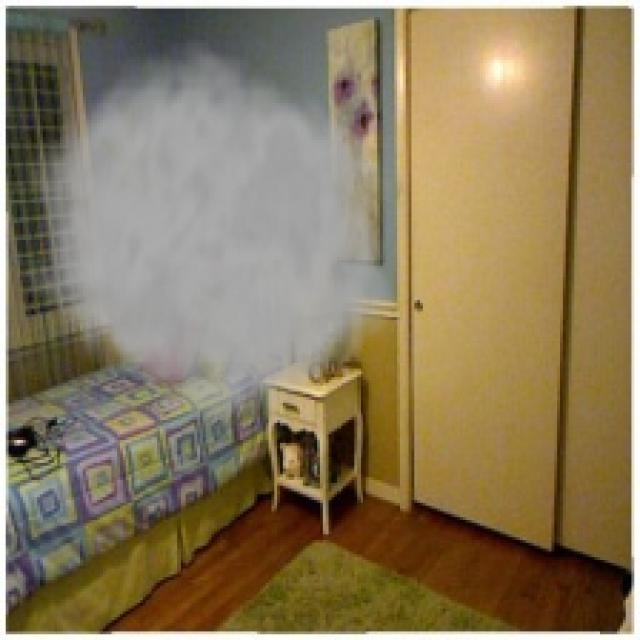smoke: (26, 32, 408, 434)
